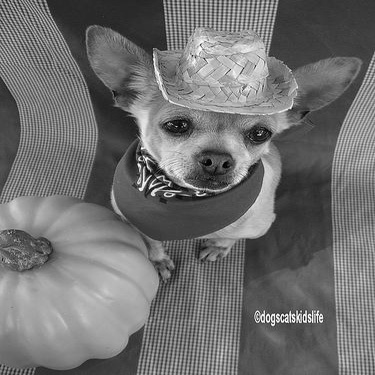dog: (62, 19, 366, 293)
